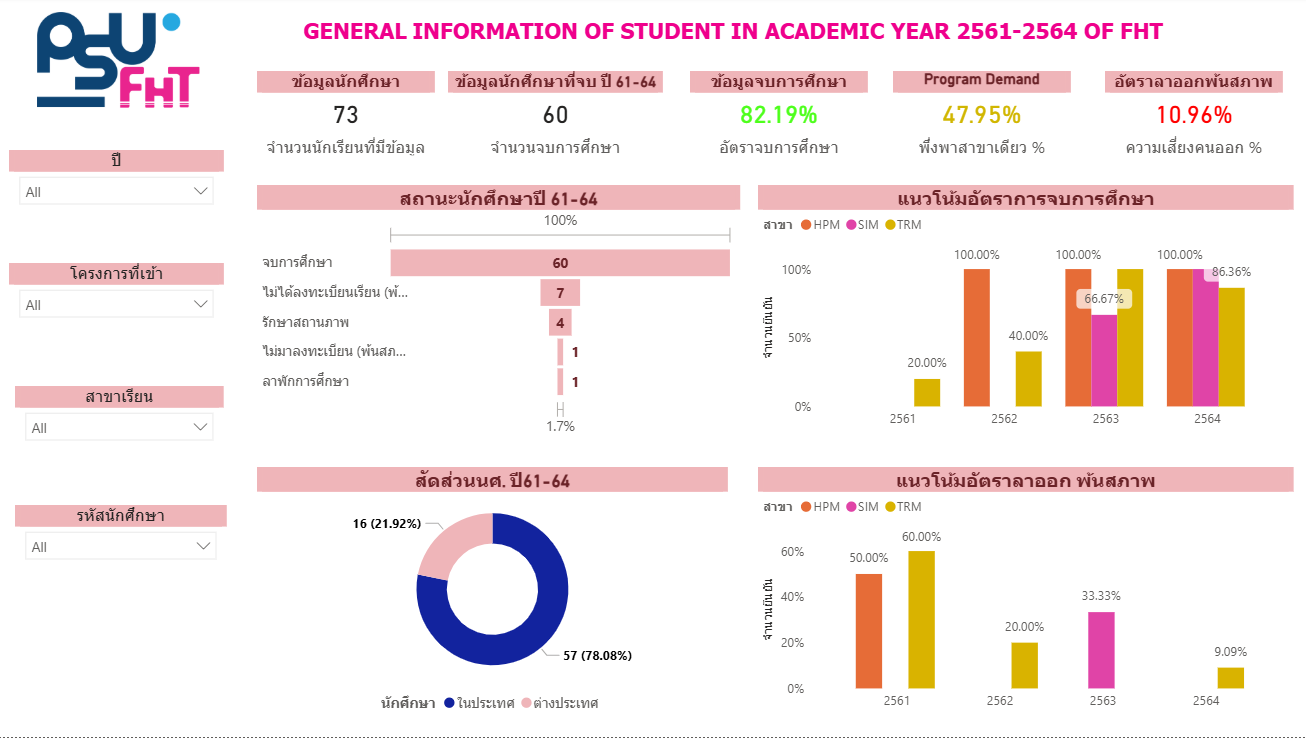

This screenshot's page, from the dashboard's own definition file:
{"tool":"powerbi","page":{"name":"61-64","canvas":[1280,720],"ordinal":4},"visuals":[{"type":"textbox","box":[291.9,14.3,860.6,42.1],"z":0},{"type":"slicer","title":"รหัสนักศึกษา","fields":{"Values":["Status.student_id"]},"box":[17,494,206,66],"z":1000},{"type":"slicer","title":"โครงการที่เข้า","fields":{"Values":["Status.TCAS"]},"box":[11,259,209,61],"z":2000},{"type":"slicer","title":"สาขาเรียน","fields":{"Values":["Status.base_major"]},"box":[17,378,203,67],"z":3000},{"type":"slicer","title":"ปี","fields":{"Values":["Status.admit at year"]},"box":[11,149,209,68],"z":4000},{"type":"card","title":"ข้อมูลนักศึกษาเลื่อนชั้นปี","fields":{"Values":["Dax 2 หน้าสี่.Graduted"]},"box":[438,72,209,87],"z":5000},{"type":"card","title":"ข้อมูลนักศึกษา","fields":{"Values":["Dax 3หน้าสาม.Student Count"]},"box":[252,72,173,87],"z":6000},{"type":"card","title":"ข้อมูลเลื่อนชั้้นปี","fields":{"Values":["Dax 2 หน้าสี่.Graduation Rate %"]},"box":[673.1,72,222.7,86.6],"z":7000},{"type":"card","title":"สัดส่วนในสาขาที่มาก","fields":{"Values":["Dax 2 หน้าสี่.Top Program Share"]},"box":[913.3,72,173.1,86.6],"z":8000},{"type":"funnel","title":"สถานะนักศึกษาในปี 61-64","fields":{"Category":["tStatus.status"],"Y":["Dax 2 หน้าสี่.CountAll"]},"box":[252,183,470,248],"z":9000},{"type":"card","title":"อัตราลาออกพ้นสภาพ","fields":{"Values":["Dax 2 หน้าสี่.Attrition Rate %"]},"box":[1106.9,72,173.1,86.6],"z":10000},{"type":"donutChart","title":"สัดส่วนนักศึกษา ปี61-64","fields":{"Category":["Status.graudated from"],"Y":["Dax 2 หน้าสี่.CountAll"]},"box":[252,457,458,248],"z":11000},{"type":"columnChart","title":"แนวโน้มอัตราเลื่อนชั้นปี","fields":{"Category":["Status.admit at year"],"Y":["Dax 2 หน้าสี่.Graduation Rate %"],"Series":["tMajor.base_major"]},"box":[738,183,521,245],"z":12000},{"type":"columnChart","title":"แนวโน้มอัตราลาออก พ้นสภาพ","fields":{"Category":["Status.admit at year"],"Y":["Dax 2 หน้าสี่.Attrition Rate %"],"Series":["tMajor.base_major"]},"box":[739,457,521,245],"z":13000},{"type":"image","box":[29.8,39.4,158,95],"z":14000}]}

Visuals, with their boxes in screenshot pixels (x1, y1, x2, y2), scaled from the page's 1280x720 canvas onto the 1306x738 screenshot:
textbox: <box>298,15,1176,58</box>
"รหัสนักศึกษา" slicer: <box>17,506,228,574</box>
"โครงการที่เข้า" slicer: <box>11,265,224,328</box>
"สาขาเรียน" slicer: <box>17,387,224,456</box>
"ปี" slicer: <box>11,153,224,222</box>
"ข้อมูลนักศึกษาเลื่อนชั้นปี" card: <box>447,74,660,163</box>
"ข้อมูลนักศึกษา" card: <box>257,74,434,163</box>
"ข้อมูลเลื่อนชั้้นปี" card: <box>687,74,914,163</box>
"สัดส่วนในสาขาที่มาก" card: <box>932,74,1108,163</box>
"สถานะนักศึกษาในปี 61-64" funnel: <box>257,188,737,442</box>
"อัตราลาออกพ้นสภาพ" card: <box>1129,74,1305,163</box>
"สัดส่วนนักศึกษา ปี61-64" donutChart: <box>257,468,724,723</box>
"แนวโน้มอัตราเลื่อนชั้นปี" columnChart: <box>753,188,1285,439</box>
"แนวโน้มอัตราลาออก พ้นสภาพ" columnChart: <box>754,468,1286,720</box>
image: <box>30,40,192,138</box>
